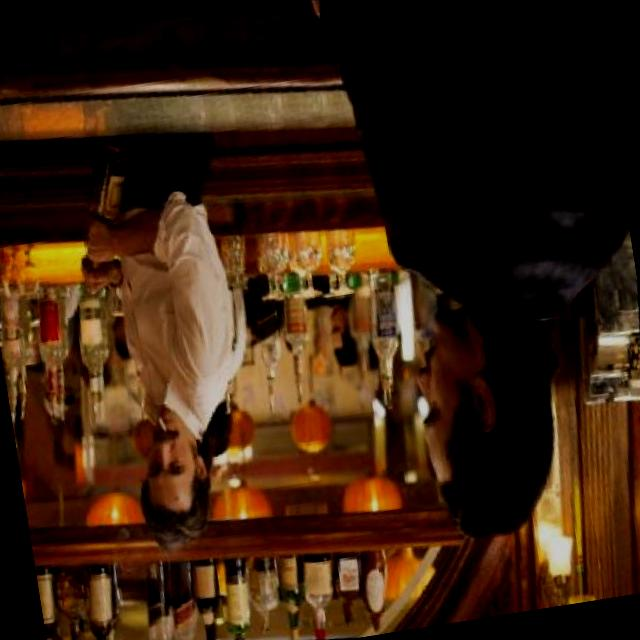smoke: (154, 412, 172, 434)
